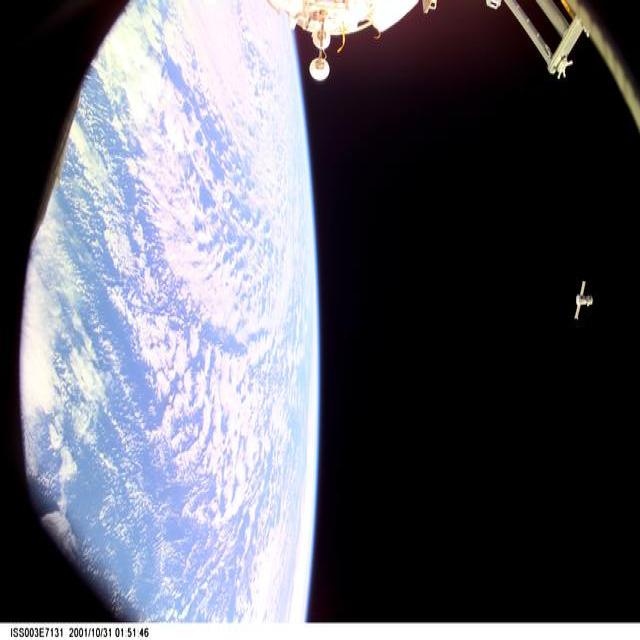satellite: (570, 280, 594, 329)
